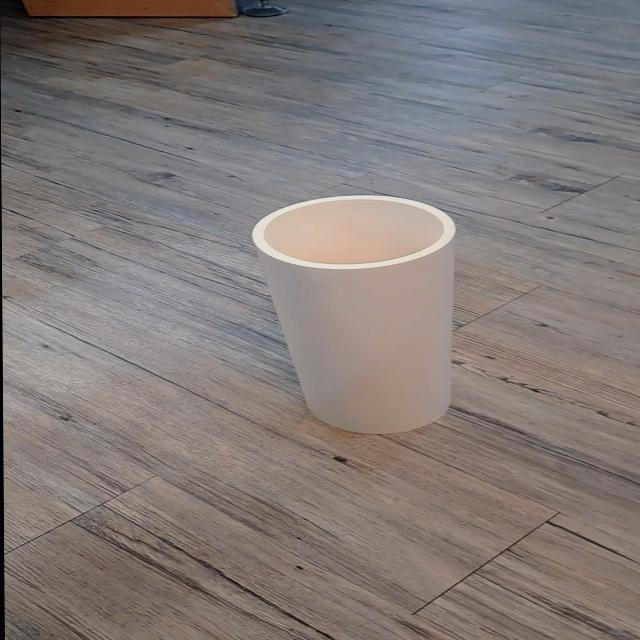CORAL: (191, 174, 567, 501)
